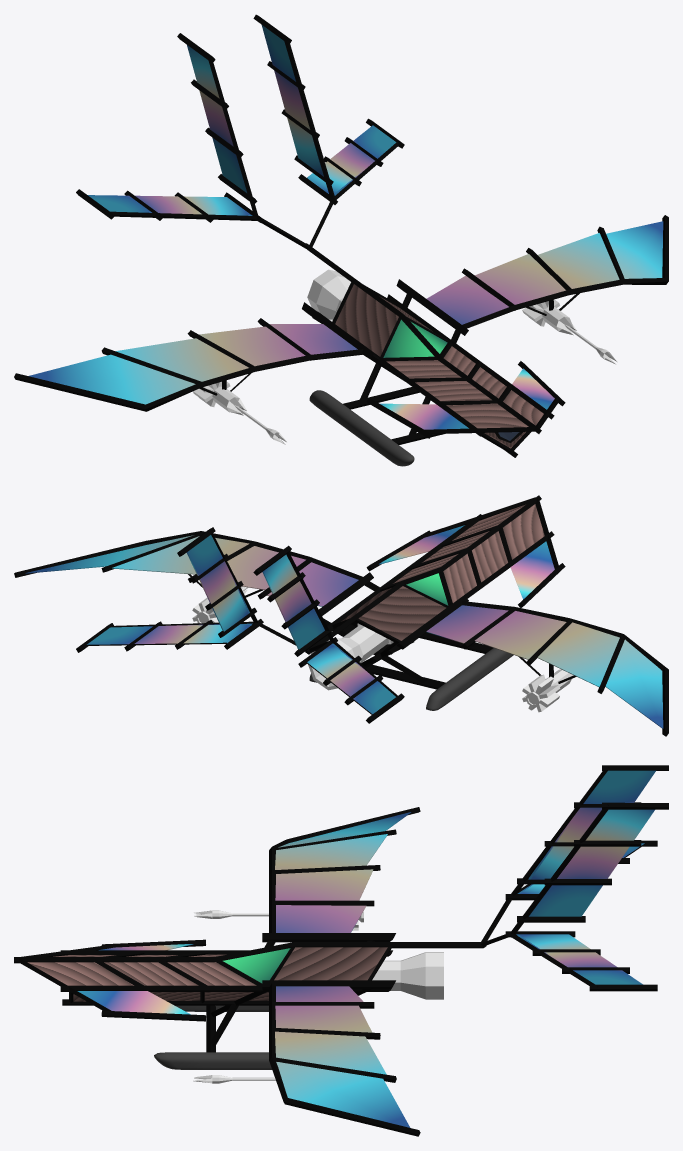
The model's file is diamond.kite.unity.fbx.
3 views of the same model, one above another, from view 1: azimuth 30°, elevation 25°; view 2: azimuth 150°, elevation 25°; view 3: azimuth 270°, elevation 25° (orthographic). The views are drawn at different scales.
Parts seen in each view (by area): view 1: wings, frame, wood, cannon, pontoons, thruster, windshield; view 2: wings, frame, wood, pontoons, cannon, thruster, windshield; view 3: wings, frame, wood, pontoons, thruster, windshield, cannon.
Part boxes in pixels (x1=…): wings: x1=28, y1=24, x2=663, y2=429; frame: x1=14, y1=14, x2=668, y2=457; wood: x1=335, y1=284, x2=543, y2=448; cannon: x1=193, y1=299, x2=617, y2=444; pontoons: x1=309, y1=390, x2=529, y2=466; thruster: x1=307, y1=269, x2=350, y2=320; windshield: x1=383, y1=319, x2=447, y2=357; wings: x1=25, y1=525, x2=663, y2=728; frame: x1=14, y1=495, x2=668, y2=736; wood: x1=341, y1=504, x2=544, y2=640; pontoons: x1=309, y1=648, x2=513, y2=710; cannon: x1=192, y1=586, x2=573, y2=712; thruster: x1=308, y1=623, x2=393, y2=690; windshield: x1=406, y1=573, x2=448, y2=605; wings: x1=77, y1=770, x2=655, y2=1127; frame: x1=14, y1=765, x2=668, y2=1136; wood: x1=27, y1=947, x2=387, y2=1001; pontoons: x1=154, y1=1005, x2=271, y2=1069; thruster: x1=372, y1=952, x2=443, y2=999; windshield: x1=223, y1=948, x2=290, y2=983; cannon: x1=193, y1=910, x2=363, y2=1083.
Size of the model in its own units: 386 by 141 by 328.
Materials: 10 (3 with a texture image).
